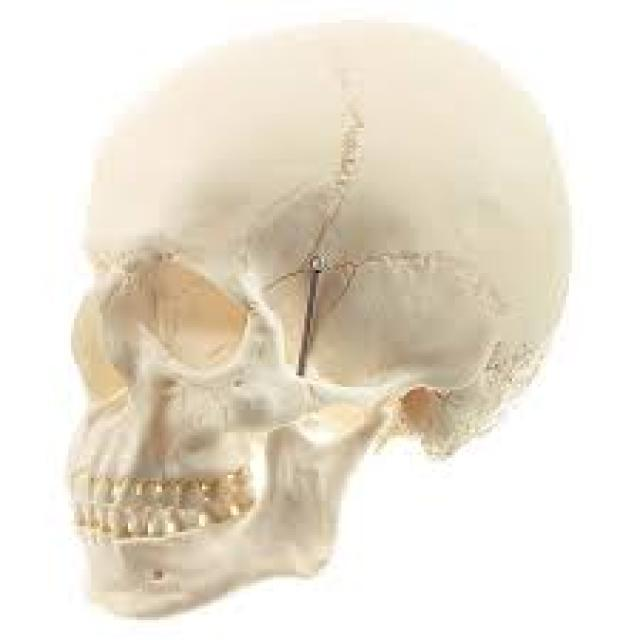skull: (61, 11, 584, 629)
